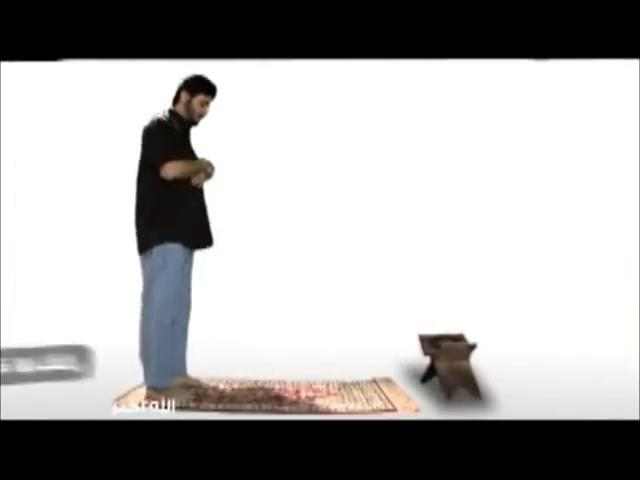qiyam: (129, 69, 218, 397)
